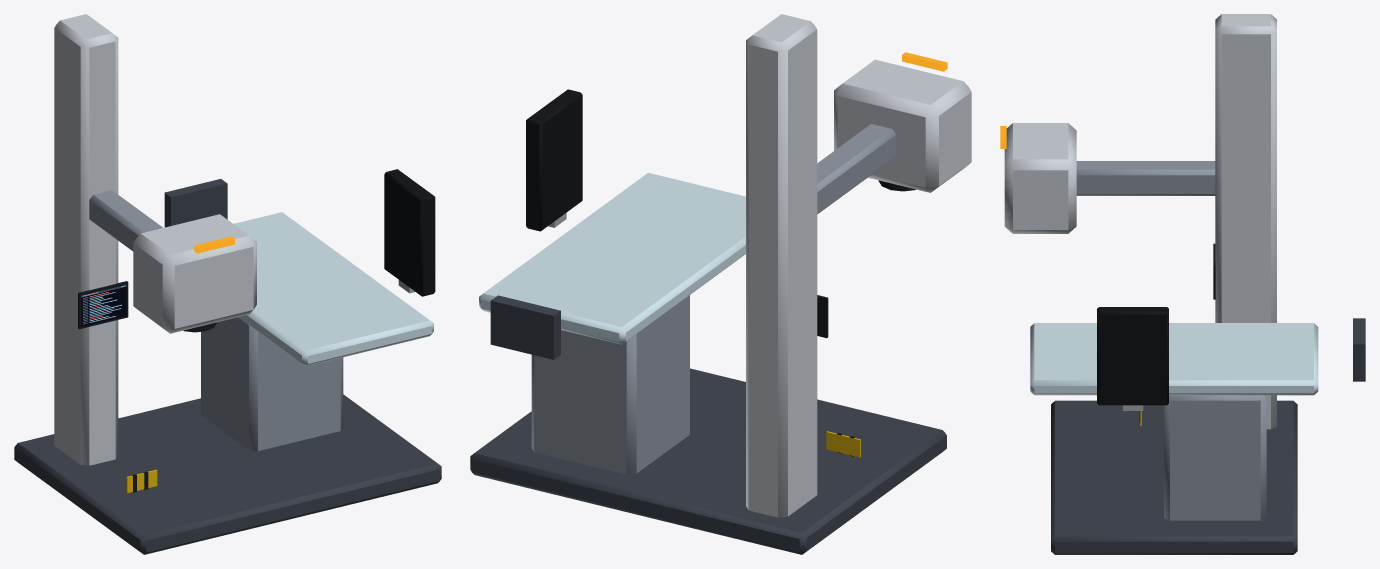
File: medscanner_x_ray_unit.glb
The picture shows the model from 3 angles, left to right: view 1: azimuth 30°, elevation 25°; view 2: azimuth 150°, elevation 25°; view 3: azimuth 270°, elevation 25°; orthographic projection. The views are drawn at different scales.
Parts seen in each view (by area): view 1: medscanner_x_ray_unit; view 2: medscanner_x_ray_unit; view 3: medscanner_x_ray_unit.
Part boxes in pixels (x1,y1,x2,y2): medscanner_x_ray_unit: [14, 14, 441, 554]; medscanner_x_ray_unit: [470, 14, 971, 554]; medscanner_x_ray_unit: [1000, 14, 1365, 554].
Size of the model in its own units: 1.69 by 2.25 by 1.78.
Materials: 10 (1 with a texture image).
